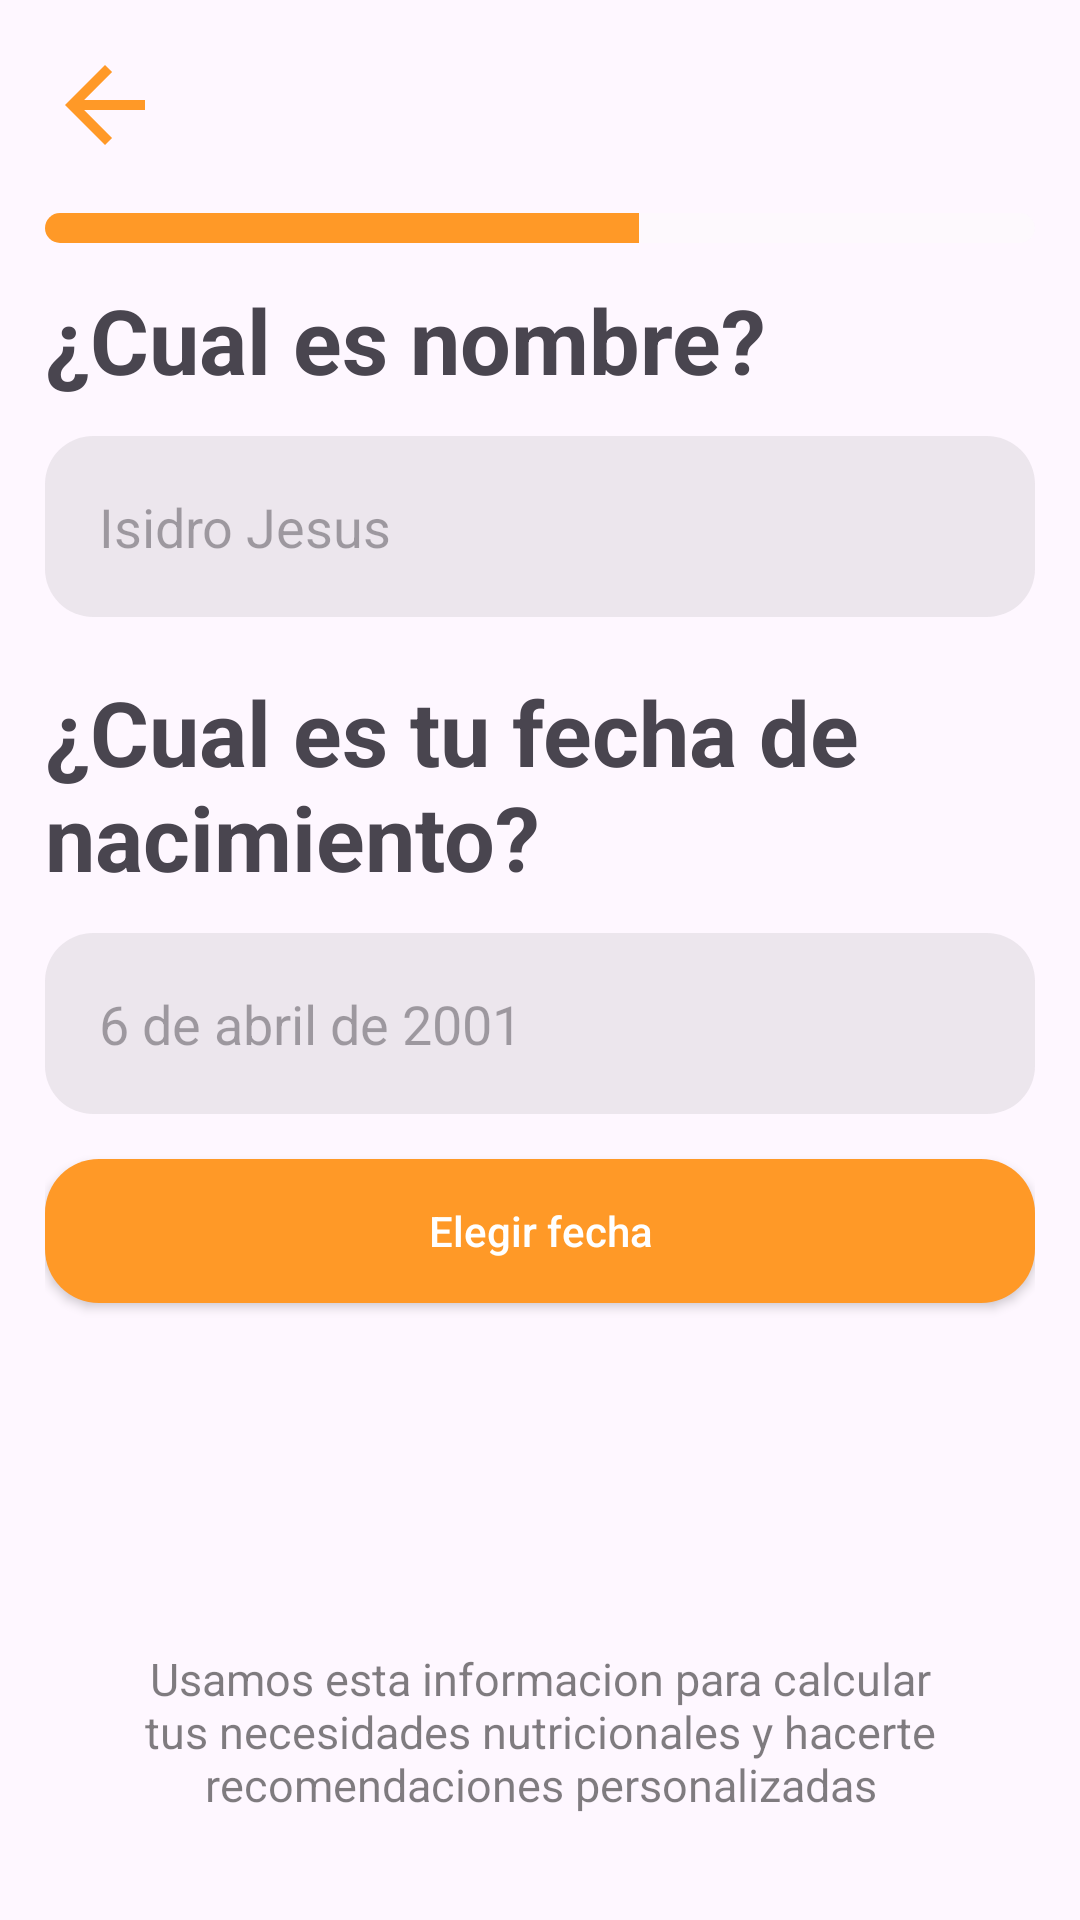

Where icons sit on this 1080 × 1920 app screen, as [x1, y1, x2, y2]:
back arrow: [65, 65, 145, 145]
